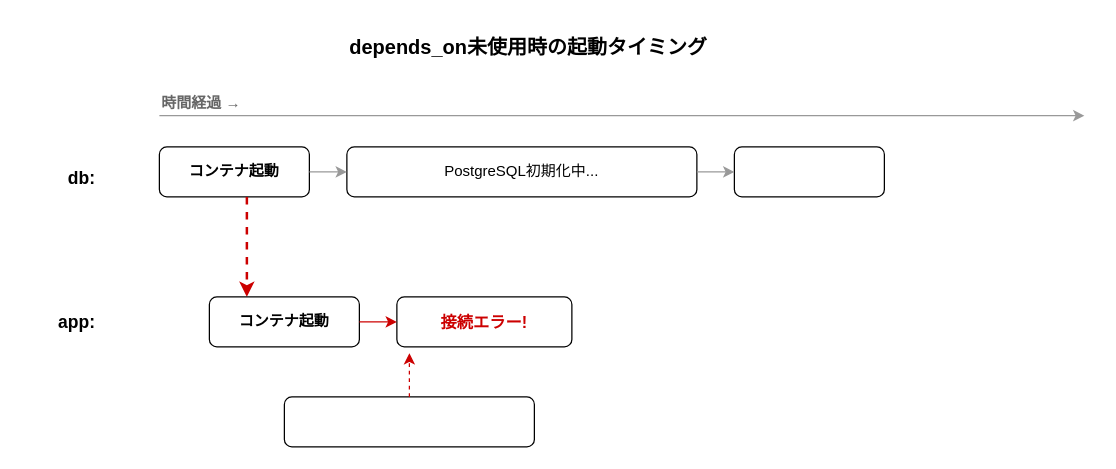
This 1116x469 diagram has some shape labels left out. The box of each missing label's shape, as (x1, y1, x2, y2) in pixels:
dbはまだ準備できていない: (283, 396, 534, 447)
接続可能: (733, 146, 884, 197)
